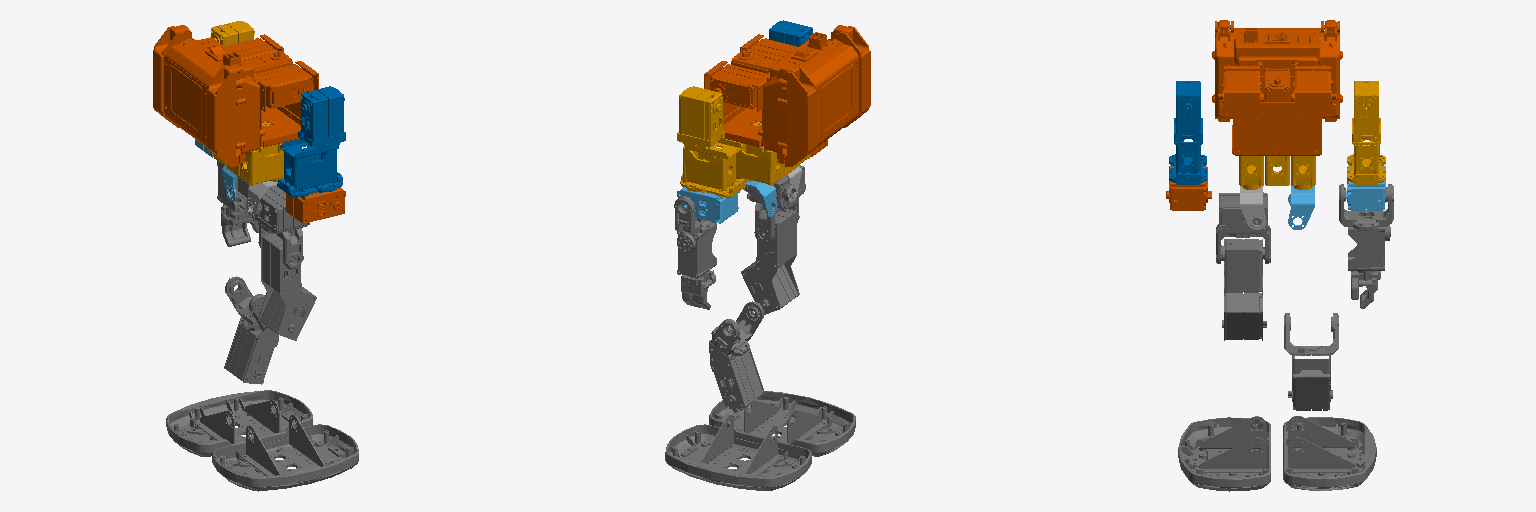
--- Render facts (derived) ---
The picture shows the robot from 3 angles, left to right: view 1: azimuth 30°, elevation 25°; view 2: azimuth 150°, elevation 25°; view 3: azimuth 270°, elevation 25°; orthographic projection.
Model khr22 with 23 links and 22 joints (21 revolute, 1 fixed), rooted at BODY, posed every joint at zero.
Visible links, largest first — view 1: TORSO_LINK0, RLEG_LINK5, LLEG_LINK5, RARM_LINK1, RLEG_LINK2, LLEG_LINK3, RLEG_LINK1, LARM_LINK3, BODY, RARM_LINK2, LARM_LINK1; view 2: TORSO_LINK0, LLEG_LINK5, RLEG_LINK5, LARM_LINK1, LLEG_LINK3, RLEG_LINK2, LARM_LINK3, BODY, RLEG_LINK1, LARM_LINK2, RARM_LINK1; view 3: TORSO_LINK0, LLEG_LINK5, RLEG_LINK5, RLEG_LINK2, LARM_LINK3, LARM_LINK1, LLEG_LINK3, RARM_LINK1, BODY, RLEG_LINK1, RARM_LINK2, LARM_LINK2 (+2 smaller).
Boxes of the visible links, x1,y1,x2,y2 form: TORSO_LINK0: [153, 25, 318, 166]; RLEG_LINK5: [212, 415, 358, 491]; LLEG_LINK5: [166, 390, 312, 456]; RARM_LINK1: [277, 86, 345, 197]; RLEG_LINK2: [258, 234, 316, 340]; LLEG_LINK3: [224, 276, 278, 384]; RLEG_LINK1: [247, 186, 309, 269]; LARM_LINK3: [217, 160, 258, 246]; BODY: [214, 122, 283, 185]; RARM_LINK2: [284, 187, 345, 223]; LARM_LINK1: [211, 21, 254, 46]; TORSO_LINK0: [704, 25, 870, 166]; LLEG_LINK5: [665, 415, 811, 490]; RLEG_LINK5: [709, 391, 855, 456]; LARM_LINK1: [677, 86, 745, 197]; LLEG_LINK3: [709, 301, 764, 409]; RLEG_LINK2: [741, 208, 799, 314]; LARM_LINK3: [674, 196, 716, 309]; BODY: [736, 122, 809, 185]; RLEG_LINK1: [745, 165, 805, 243]; LARM_LINK2: [677, 187, 739, 223]; RARM_LINK1: [769, 20, 812, 46]; TORSO_LINK0: [1212, 20, 1342, 155]; LLEG_LINK5: [1283, 416, 1376, 490]; RLEG_LINK5: [1178, 416, 1270, 491]; RLEG_LINK2: [1222, 239, 1266, 340]; LARM_LINK3: [1339, 184, 1393, 308]; LARM_LINK1: [1347, 81, 1385, 184]; LLEG_LINK3: [1284, 313, 1338, 410]; RARM_LINK1: [1169, 81, 1206, 184]; BODY: [1239, 156, 1315, 189]; RLEG_LINK1: [1216, 193, 1270, 263]; RARM_LINK2: [1166, 166, 1211, 210]; LARM_LINK2: [1346, 166, 1385, 210].
Bounding box of the posed robot: 0.1374 × 0.1897 × 0.3809 m (x, y, z).
Meshes: 23 distinct files referenced, 14 mesh visuals loaded (14 Collada DAE); not drawn: 9 (reference not matched to a file when rendering).

robot.urdf — khr22:
<?xml version="1.0"?>
<robot name="khr22"
       xmlns:xi="http://www.w3.org/2001/XInclude">
  <link name="BODY">
    <visual>
      <origin xyz="0 0 0" rpy="0 -0 0"/>
      <!-- <origin xyz="0.0013 0 0.28866" rpy="0 -0 0"/> -->
      <geometry>
        <mesh filename="khr22/mesh/BODY_mesh_refined.dae" scale="1 1 1" />
      </geometry>
    </visual>
    <collision>
      <origin xyz="0 0 0" rpy="0 -0 0"/>
      <!-- <origin xyz="0.0013 0 0.28866" rpy="0 -0 0"/> -->
      <geometry>
        <mesh filename="khr22/mesh/BODY_mesh_refined.dae" scale="1 1 1" />
      </geometry>
    </collision>
    <inertial>
      <mass value="0.12849" />
      <origin xyz="-0.0115 3.53916e-18 -0.02" rpy="0 -0 0"/>
      <inertia ixx="4.39672e-05" ixy="-5.24819e-23" ixz="-6.69555e-24" iyy="9.84623e-05" iyz="-1.72206e-20" izz="9.60387e-05"/>
    </inertial>
  </link>
  <link name="LLEG_LINK0">
    <visual>
      <origin xyz="0 -0.022 0.04" rpy="0 -0 0"/>
      <geometry>
        <mesh filename="khr22/mesh/LLEG_LINK0_mesh_refined.dae" scale="1 1 1" />
      </geometry>
    </visual>
    <collision>
      <origin xyz="0 -0.022 0.04" rpy="0 -0 0"/>
      <geometry>
        <mesh filename="khr22/mesh/LLEG_LINK0_mesh_refined.dae" scale="1 1 1" />
      </geometry>
    </collision>
    <inertial>
      <mass value="0.003322" />
      <origin xyz="-0.001629 -0.001057 -0.009271" rpy="0 -0 0"/>
      <inertia ixx="1.0684e-05" ixy="2.25136e-07" ixz="-7.55589e-09" iyy="1.17667e-05" iyz="-4.21048e-08" izz="4.59644e-06"/>
    </inertial>
  </link>
  <link name="LLEG_LINK1">
    <visual>
      <origin xyz="0.018517 0.017 -0.06265" rpy="0 -0 0"/>
      <geometry>
        <mesh filename="khr22/mesh/LLEG_LINK1_mesh_refined.dae" scale="1 1 1" />
      </geometry>
    </visual>
    <collision>
      <origin xyz="0.018517 0.017 -0.06265" rpy="0 -0 0"/>
      <geometry>
        <mesh filename="khr22/mesh/LLEG_LINK1_mesh_refined.dae" scale="1 1 1" />
      </geometry>
    </collision>
    <inertial>
      <mass value="0.0699" />
      <origin xyz="-0.021734 0.011506 -0.014091" rpy="0 -0 0"/>
      <inertia ixx="1.6919e-05" ixy="-8.67462e-08" ixz="-1.21724e-08" iyy="1.58948e-05" iyz="-5.7174e-07" izz="9.6286e-06"/>
      <!-- <mass value="0.059469" /> -->
      <!-- <origin xyz="-0.02 0.0115 -0.006481" rpy="0 -0 0"/> -->
      <!-- <inertia ixx="6.45473e-05" ixy="-4.27652e-10" ixz="4.33505e-10" iyy="7.31302e-05" iyz="2.22978e-08" izz="4.57654e-05"/> -->
    </inertial>
  </link>
  <link name="LLEG_LINK2">
    <visual>
      <origin xyz="-0.0192 -0.00825 -0.0385" rpy="0 -0 0"/>
      <geometry>
        <mesh filename="khr22/mesh/LLEG_LINK2_mesh_refined.dae" scale="1 1 1" />
      </geometry>
    </visual>
    <collision>
      <origin xyz="-0.0192 -0.00825 -0.0385" rpy="0 -0 0"/>
      <geometry>
        <mesh filename="khr22/mesh/LLEG_LINK2_mesh_refined.dae" scale="1 1 1" />
      </geometry>
    </collision>
    <inertial>
      <mass value="0.1031" />
      <origin xyz="0.002871 0.018978 -0.033258" rpy="0 -0 0"/>
      <inertia ixx="5.51675e-05" ixy="-4.33138e-07" ixz="1.60787e-07" iyy="5.51001e-05" iyz="2.79276e-08" izz="1.42107e-05"/>
      <!-- <mass value="0.08566" /> -->
      <!-- <origin xyz="0.002875 0.02 -0.03327" rpy="0 -0 0"/> -->
      <!-- <inertia ixx="6.70633e-05" ixy="2.76374e-22" ixz="-1.9933e-23" iyy="0.000102" iyz="2.47851e-20" izz="6.47926e-05"/> -->
    </inertial>
  </link>
  <link name="LLEG_LINK3">
    <visual>
      <origin xyz="0 0 -0.065" rpy="0 -0 0"/>
      <geometry>
        <mesh filename="khr22/mesh/LLEG_LINK3_mesh_refined.dae" scale="1 1 1" />
      </geometry>
    </visual>
    <collision>
      <origin xyz="0 0 -0.065" rpy="0 -0 0"/>
      <geometry>
        <mesh filename="khr22/mesh/LLEG_LINK3_mesh_refined.dae" scale="1 1 1" />
      </geometry>
    </collision>
    <inertial>
      <mass value="0.0694" />
      <origin xyz="0.003613 0.016674 -0.031461" rpy="0 -0 0"/>
      <inertia ixx="3.675e-05" ixy="-1.69837e-07" ixz="-8.70062e-07" iyy="3.37577e-05" iyz="-1.30046e-07" izz="1.29244e-05"/>
      <!-- <mass value="0.059469" /> -->
      <!-- <origin xyz="0.005048 0.02 -0.042868" rpy="0 -0 0"/> -->
      <!-- <inertia ixx="0.000211" ixy="-4.27652e-10" ixz="-4.35972e-07" iyy="0.000219" iyz="2.22978e-08" izz="4.55794e-05"/> -->
    </inertial>
  </link>
  <link name="LLEG_LINK4">
    <visual>
      <origin xyz="0 0 -0.065" rpy="0 -0 0"/>
      <geometry>
        <mesh filename="khr22/mesh/LLEG_LINK4_mesh_refined.dae" scale="1 1 1" />
      </geometry>
    </visual>
    <collision>
      <origin xyz="0 0 -0.065" rpy="0 -0 0"/>
      <geometry>
        <mesh filename="khr22/mesh/LLEG_LINK4_mesh_refined.dae" scale="1 1 1" />
      </geometry>
    </collision>
    <inertial>
      <mass value="0.0691" />
      <origin xyz="-0.000386 0.016666 -0.024369" rpy="0 -0 0"/>
      <inertia ixx="1.89725e-05" ixy="-5.30464e-08" ixz="-3.88994e-07" iyy="1.73695e-05" iyz="-1.9347e-08" izz="1.22922e-05"/>
      <!-- <mass value="0.059469" /> -->
      <!-- <origin xyz="-1.0842e-18 0.02 -0.032159" rpy="0 -0 0"/> -->
      <!-- <inertia ixx="0.000349" ixy="-4.27652e-10" ixz="4.33505e-10" iyy="0.000358" iyz="2.22978e-08" izz="4.5842e-05"/> -->
    </inertial>
  </link>
  <link name="LLEG_LINK5">
    <visual>
      <!-- <origin xyz="0.0 0.0 0.0" rpy="0 -0 0"/> -->
      <origin xyz="0.019683 0.00825 -0.0385" rpy="0 -0 0"/>
      <geometry>
        <mesh filename="khr22/mesh/LLEG_LINK5_mesh.dae" scale="1 1 1" />
      </geometry>
    </visual>
    <collision>
      <!-- <origin xyz="0.0 0.0 0.0" rpy="0 -0 0"/> -->
      <origin xyz="0.019683 0.00825 -0.0385" rpy="0 -0 0"/>
      <geometry>
        <mesh filename="khr22/mesh/LLEG_LINK5_mesh.dae" scale="1 1 1" />
      </geometry>
    </collision>
    <inertial>
      <mass value="0.0419" />
      <origin xyz="-0.020862 0.020902 -0.013459" rpy="0 -0 0"/>
      <inertia ixx="1.31439e-05" ixy="-3.43305e-09" ixz="-2.13264e-07" iyy="2.75629e-05" iyz="3.99808e-07" izz="3.78492e-05"/>
      <!-- <mass value="0.103233" /> -->
      <!-- <origin xyz="3.46945e-18 0.01093 0.00521" rpy="0 -0 0"/> -->
      <!-- <inertia ixx="0.000993" ixy="4.72528e-06" ixz="-1.08944e-06" iyy="0.000411" iyz="1.03972e-06" izz="0.000602"/> -->
    </inertial>
  </link>
  <link name="RLEG_LINK0">
    <visual>
      <origin xyz="0 0.022 0.04" rpy="0 -0 0"/>
      <geometry>
        <mesh filename="khr22/mesh/RLEG_LINK0_mesh_refined.dae" scale="1 1 1" />
      </geometry>
    </visual>
    <collision>
      <origin xyz="0 0.022 0.04" rpy="0 -0 0"/>
      <geometry>
        <mesh filename="khr22/mesh/RLEG_LINK0_mesh_refined.dae" scale="1 1 1" />
      </geometry>
    </collision>
    <inertial>
      <mass value="0.003322" />
      <origin xyz="-0.001629 0.001057 -0.009271" rpy="0 -0 0"/>
      <inertia ixx="1.0684e-05" ixy="2.25136e-07" ixz="-8.02116e-09" iyy="1.17667e-05" iyz="4.20715e-08" izz="4.59644e-06"/>
    </inertial>
  </link>
  <link name="RLEG_LINK1">
    <visual>
      <origin xyz="0.018517 -0.017 -0.06265" rpy="0 -0 0"/>
      <geometry>
        <mesh filename="khr22/mesh/RLEG_LINK1_mesh_refined.dae" scale="1 1 1" />
      </geometry>
    </visual>
    <collision>
      <origin xyz="0.018517 -0.017 -0.06265" rpy="0 -0 0"/>
      <geometry>
        <mesh filename="khr22/mesh/RLEG_LINK1_mesh_refined.dae" scale="1 1 1" />
      </geometry>
    </collision>
    <inertial>
      <mass value="0.0699" />
      <origin xyz="-0.021734 -0.011506 -0.014091" rpy="0 -0 0"/>
      <inertia ixx="1.67706e-05" ixy="3.09063e-07" ixz="-9.06368e-08" iyy="1.59351e-05" iyz="-1.85881e-07" izz="8.90141e-06"/>
      <!-- <mass value="0.059469" /> -->
      <!-- <origin xyz="-0.02 -0.0115 -0.006481" rpy="0 -0 0"/> -->
      <!-- <inertia ixx="6.45473e-05" ixy="-4.27652e-10" ixz="4.33505e-10" iyy="7.31302e-05" iyz="2.22978e-08" izz="4.57654e-05"/> -->
    </inertial>
  </link>
  <link name="RLEG_LINK2">
    <visual>
      <origin xyz="-0.0192 0.00825 -0.0385" rpy="0 -0 0"/>
      <geometry>
        <mesh filename="khr22/mesh/RLEG_LINK2_mesh_refined.dae" scale="1 1 1" />
      </geometry>
    </visual>
    <collision>
      <origin xyz="-0.0192 0.00825 -0.0385" rpy="0 -0 0"/>
      <geometry>
        <mesh filename="khr22/mesh/RLEG_LINK2_mesh_refined.dae" scale="1 1 1" />
      </geometry>
    </collision>
    <inertial>
      <mass value="0.1031" />
      <origin xyz="0.002871 -0.018978 -0.033258" rpy="0 -0 0"/>
      <inertia ixx="5.53682e-05" ixy="1.79727e-07" ixz="1.50432e-07" iyy="5.49684e-05" iyz="-1.26323e-07" izz="1.5723e-05"/>
      <!-- <mass value="0.08566" /> -->
      <!-- <origin xyz="0.002875 -0.02 -0.03327" rpy="0 -0 0"/> -->
      <!-- <inertia ixx="6.70633e-05" ixy="2.76374e-22" ixz="-1.9933e-23" iyy="0.000102" iyz="2.47851e-20" izz="6.47926e-05"/> -->
    </inertial>
  </link>
  <link name="RLEG_LINK3">
    <visual>
      <origin xyz="0 0 -0.065" rpy="0 -0 0"/>
      <geometry>
        <mesh filename="khr22/mesh/RLEG_LINK3_mesh_refined.dae" scale="1 1 1" />
      </geometry>
    </visual>
    <collision>
      <origin xyz="0 0 -0.065" rpy="0 -0 0"/>
      <geometry>
        <mesh filename="khr22/mesh/RLEG_LINK3_mesh_refined.dae" scale="1 1 1" />
      </geometry>
    </collision>
    <inertial>
      <mass value="0.0694" />
      <origin xyz="0.003613 -0.016674 -0.031461" rpy="0 -0 0"/>
      <inertia ixx="3.88163e-05" ixy="-4.03699e-09" ixz="-8.68336e-07" iyy="3.51562e-05" iyz="-8.44442e-08" izz="1.3848e-05"/>
      <!-- <mass value="0.059469" /> -->
      <!-- <origin xyz="0.005048 -0.02 -0.042868" rpy="0 -0 0"/> -->
      <!-- <inertia ixx="0.000211" ixy="-4.27652e-10" ixz="-4.35972e-07" iyy="0.000219" iyz="2.22978e-08" izz="4.55794e-05"/> -->
    </inertial>
  </link>
  <link name="RLEG_LINK4">
    <visual>
      <origin xyz="0 -0.003 -0.065" rpy="0 -0 0"/>
      <geometry>
        <mesh filename="khr22/mesh/RLEG_LINK4_mesh_refined.dae" scale="1 1 1" />
      </geometry>
    </visual>
    <collision>
      <origin xyz="0 -0.003 -0.065" rpy="0 -0 0"/>
      <geometry>
        <mesh filename="khr22/mesh/RLEG_LINK4_mesh_refined.dae" scale="1 1 1" />
      </geometry>
    </collision>
    <inertial>
      <mass value="0.0691" />
      <origin xyz="-0.000386 -0.016666 -0.024369" rpy="0 -0 0"/>
      <inertia ixx="2.07911e-05" ixy="-1.95431e-07" ixz="9.83503e-08" iyy="1.81828e-05" iyz="8.03039e-08" izz="1.18297e-05"/>
      <!-- <mass value="0.059469" /> -->
      <!-- <origin xyz="-4.33681e-19 -0.02 -0.032159" rpy="0 -0 0"/> -->
      <!-- <inertia ixx="0.000349" ixy="-4.27652e-10" ixz="4.33505e-10" iyy="0.000358" iyz="2.22978e-08" izz="4.5842e-05"/> -->
    </inertial>
  </link>
  <link name="RLEG_LINK5">
    <visual>
      <!-- <origin xyz="0.0 0.0 0.0" rpy="0 -0 0"/> -->
      <origin xyz="0.019683 -0.00825 -0.0385" rpy="0 -0 0"/>
      <geometry>
        <mesh filename="khr22/mesh/RLEG_LINK5_mesh.dae" scale="1 1 1" />
      </geometry>
    </visual>
    <collision>
      <!-- <origin xyz="0.0 0.0 0.0" rpy="0 -0 0"/> -->
      <origin xyz="0.019683 -0.00825 -0.0385" rpy="0 -0 0"/>
      <geometry>
        <mesh filename="khr22/mesh/RLEG_LINK5_mesh.dae" scale="1 1 1" />
      </geometry>
    </collision>
    <inertial>
      <mass value="0.0419" />
      <origin xyz="-0.020862 -0.020902 -0.013459" rpy="0 -0 0"/>
      <inertia ixx="1.24417e-05" ixy="-6.00499e-07" ixz="1.04282e-07" iyy="3.00021e-05" iyz="-5.79267e-07" izz="3.92743e-05"/>
      <!-- <mass value="0.103233" /> -->
      <!-- <origin xyz="-3.46945e-18 -0.01093 0.00521" rpy="0 -0 0"/> -->
      <!-- <inertia ixx="0.000993" ixy="4.72527e-06" ixz="1.01251e-06" iyy="0.000411" iyz="-1.52142e-07" izz="0.000602"/> -->
    </inertial>
  </link>
  <link name="TORSO_LINK0">
    <visual>
      <origin xyz="0 0 0" rpy="0 -0 0"/>
      <geometry>
        <mesh filename="khr22/mesh/TORSO_LINK0_mesh_refined.dae" scale="1 1 1" />
      </geometry>
    </visual>
    <collision>
      <origin xyz="0 0 0" rpy="0 -0 0"/>
      <geometry>
        <mesh filename="khr22/mesh/TORSO_LINK0_mesh_refined.dae" scale="1 1 1" />
      </geometry>
    </collision>
    <inertial>
      <mass value="0.35983" />
      <origin xyz="-0.029892 1.89568e-17 0.029281" rpy="0 -0 0"/>
      <inertia ixx="0.002007" ixy="3.87489e-05" ixz="-9.86728e-07" iyy="0.001856" iyz="-7.26528e-06" izz="0.001515"/>
    </inertial>
  </link>
  <link name="HEAD_LINK0">
    <visual>
      <origin xyz="0 0 0.0644" rpy="0 -0 0"/>
      <geometry>
        <mesh filename="khr22/mesh/HEAD_LINK0_mesh_refined.dae" scale="1 1 1" />
      </geometry>
    </visual>
    <collision>
      <origin xyz="0 0 0.0644" rpy="0 -0 0"/>
      <geometry>
        <mesh filename="khr22/mesh/HEAD_LINK0_mesh_refined.dae" scale="1 1 1" />
      </geometry>
    </collision>
    <inertial>
      <mass value="0.0149" />
      <origin xyz="0.002048 0 0.020747" rpy="0 -0 0"/>
      <inertia ixx="1.89498e-06" ixy="1.75751e-08" ixz="-5.79694e-08" iyy="3.27018e-06" iyz="1.69379e-08" izz="2.44034e-06"/>
      <!-- <mass value="0.014361" /> -->
      <!-- <origin xyz="0.003285 -2.30629e-06 0.020555" rpy="0 -0 0"/> -->
      <!-- <inertia ixx="4.95528e-05" ixy="-1.38168e-11" ixz="-7.3432e-08" iyy="4.45537e-05" iyz="-2.01845e-09" izz="1.47912e-05"/> -->
    </inertial>
  </link>
  <link name="LARM_LINK0">
    <visual>
      <origin xyz="0.0115 0.049 0.0474" rpy="0 -0 0"/>
      <geometry>
        <mesh filename="khr22/mesh/LARM_LINK0_mesh_refined.dae" scale="1 1 1" />
      </geometry>
    </visual>
    <collision>
      <origin xyz="0.0115 0.049 0.0474" rpy="0 -0 0"/>
      <geometry>
        <mesh filename="khr22/mesh/LARM_LINK0_mesh_refined.dae" scale="1 1 1" />
      </geometry>
    </collision>
    <inertial>
      <mass value="0.0153" />
      <origin xyz="0 0.014576 0" rpy="0 -0 0"/>
      <inertia ixx="1.64238e-06" ixy="-4.39899e-09" ixz="2.13134e-08" iyy="2.26922e-06" iyz="-3.47822e-09" izz="2.75336e-06"/>
      <!-- <mass value="0.016639" /> -->
      <!-- <origin xyz="-3.46945e-18 0.009163 0" rpy="0 -0 0"/> -->
      <!-- <inertia ixx="3.04092e-05" ixy="-4.27652e-10" ixz="4.33505e-10" iyy="2.27027e-05" iyz="2.22978e-08" izz="2.23763e-05"/> -->
    </inertial>
  </link>
  <link name="LARM_LINK1">
    <visual>
      <origin xyz="0.01975 0.0255 0" rpy="0 -0 0"/>
      <geometry>
        <mesh filename="khr22/mesh/LARM_LINK1_mesh_refined.dae" scale="1 1 1" />
      </geometry>
    </visual>
    <collision>
      <origin xyz="0.01975 0.0255 0" rpy="0 -0 0"/>
      <geometry>
        <mesh filename="khr22/mesh/LARM_LINK1_mesh_refined.dae" scale="1 1 1" />
      </geometry>
    </collision>
    <inertial>
      <mass value="0.08566" />
      <origin xyz="-0.02425 0 -0.03275" rpy="0 -0 0"/>
      <inertia ixx="4.0299e-05" ixy="-8.32865e-25" ixz="-3.89972e-23" iyy="6.60435e-05" iyz="9.2227e-21" izz="7.43506e-05"/>
    </inertial>
  </link>
  <link name="LARM_LINK2">
    <visual>
      <origin xyz="0.04025 0.0255 0.075" rpy="0 -0 0"/>
      <!-- <origin xyz="-0.016 0 -0.075" rpy="0 -0 0"/> -->
      <geometry>
        <mesh filename="khr22/mesh/LARM_LINK2_mesh_refined.dae" scale="1 1 1" />
      </geometry>
    </visual>
    <collision>
      <origin xyz="0.04025 0.0255 0.075" rpy="0 -0 0"/>
      <!-- <origin xyz="-0.016 0 -0.075" rpy="0 -0 0"/> -->
      <geometry>
        <mesh filename="khr22/mesh/LARM_LINK2_mesh_refined.dae" scale="1 1 1" />
      </geometry>
    </collision>
    <inertial>
      <mass value="0.04283" />
      <origin xyz="0.0115 0 1.04083e-17" rpy="0 -0 0"/>
      <inertia ixx="2.11725e-05" ixy="4.25575e-26" ixz="-1.88949e-23" iyy="3.40543e-05" iyz="1.04267e-20" izz="3.71848e-05"/>
    </inertial>
  </link>
  <link name="LARM_LINK3">
    <visual>
      <origin xyz="-0.0153 -0.0197 -0.0875" rpy="0 -0 0"/>
      <geometry>
        <mesh filename="khr22/mesh/LARM_LINK3_mesh_refined.dae" scale="1 1 1" />
      </geometry>
    </visual>
    <collision>
      <origin xyz="-0.0153 -0.0197 -0.0875" rpy="0 -0 0"/>
      <geometry>
        <mesh filename="khr22/mesh/LARM_LINK3_mesh_refined.dae" scale="1 1 1" />
      </geometry>
    </collision>
    <inertial>
      <mass value="0.0315" />
      <origin xyz="0.000525 0.019115 -0.039067" rpy="0 -0 0"/>
      <inertia ixx="2.0635e-05" ixy="6.63534e-08" ixz="1.858e-07" iyy="1.94974e-05" iyz="-1.80473e-07" izz="3.50615e-06"/>
      <!-- <mass value="0.07626" /> -->
      <!-- <origin xyz="0.020363 0.074486 -0.077361" rpy="0 -0 0"/> -->
      <!-- <inertia ixx="0.000144" ixy="4.76604e-08" ixz="1.40919e-07" iyy="0.000121" iyz="-4.90624e-08" izz="9.78235e-05"/> -->
    </inertial>
  </link>
  <link name="RARM_LINK0">
    <visual>
      <origin xyz="0.0115 -0.049 0.0474" rpy="0 -0 0"/>
      <geometry>
        <mesh filename="khr22/mesh/RARM_LINK0_mesh_refined.dae" scale="1 1 1" />
      </geometry>
    </visual>
    <collision>
      <origin xyz="0.0115 -0.049 0.0474" rpy="0 -0 0"/>
      <geometry>
        <mesh filename="khr22/mesh/RARM_LINK0_mesh_refined.dae" scale="1 1 1" />
      </geometry>
    </collision>
    <inertial>
      <mass value="0.0153" />
      <origin xyz="0 -0.014576 0" rpy="0 -0 0"/>
      <inertia ixx="1.6763e-06" ixy="-1.67661e-08" ixz="-9.95332e-09" iyy="2.26307e-06" iyz="1.99264e-09" izz="2.74554e-06"/>
      <!-- <mass value="0.016639" /> -->
      <!-- <origin xyz="0 -0.009163 0" rpy="0 -0 0"/> -->
      <!-- <inertia ixx="3.04092e-05" ixy="-4.27652e-10" ixz="4.33505e-10" iyy="2.27027e-05" iyz="2.22978e-08" izz="2.23763e-05"/> -->
    </inertial>
  </link>
  <link name="RARM_LINK1">
    <visual>
      <origin xyz="0.01975 -0.0255 0" rpy="0 -0 0"/>
      <geometry>
        <mesh filename="khr22/mesh/RARM_LINK1_mesh_refined.dae" scale="1 1 1" />
      </geometry>
    </visual>
    <collision>
      <origin xyz="0.01975 -0.0255 0" rpy="0 -0 0"/>
      <geometry>
        <mesh filename="khr22/mesh/RARM_LINK1_mesh_refined.dae" scale="1 1 1" />
      </geometry>
    </collision>
    <inertial>
      <mass value="0.08566" />
      <origin xyz="-0.02425 0 -0.03275" rpy="0 -0 0"/>
      <inertia ixx="4.0299e-05" ixy="-8.32865e-25" ixz="-3.89972e-23" iyy="6.60435e-05" iyz="9.2227e-21" izz="7.43506e-05"/>
    </inertial>
  </link>
  <link name="RARM_LINK2">
    <visual>
      <origin xyz="0.04025 -0.0255 0.075" rpy="0 -0 0"/>
      <!-- <origin xyz="-0.016 0 -0.075" rpy="0 -0 0"/> -->
      <geometry>
        <mesh filename="khr22/mesh/RARM_LINK2_mesh_refined.dae" scale="1 1 1" />
      </geometry>
    </visual>
    <collision>
      <origin xyz="0.04025 -0.0255 0.075" rpy="0 -0 0"/>
      <!-- <origin xyz="-0.016 0 -0.075" rpy="0 -0 0"/> -->
      <geometry>
        <mesh filename="khr22/mesh/RARM_LINK2_mesh_refined.dae" scale="1 1 1" />
      </geometry>
    </collision>
    <inertial>
      <mass value="0.04283" />
      <origin xyz="0.0115 0 1.04083e-17" rpy="0 -0 0"/>
      <inertia ixx="2.11725e-05" ixy="4.25575e-26" ixz="-1.88949e-23" iyy="3.40543e-05" iyz="1.04267e-20" izz="3.71848e-05"/>
    </inertial>
  </link>
  <link name="RARM_LINK3">
    <visual>
      <origin xyz="-0.0153 0.0197 -0.0875" rpy="0 -0 0"/>
      <geometry>
        <mesh filename="khr22/mesh/RARM_LINK3_mesh_refined.dae" scale="1 1 1" />
      </geometry>
    </visual>
    <collision>
      <origin xyz="-0.0153 0.0197 -0.0875" rpy="0 -0 0"/>
      <geometry>
        <mesh filename="khr22/mesh/RARM_LINK3_mesh_refined.dae" scale="1 1 1" />
      </geometry>
    </collision>
    <inertial>
      <mass value="0.0315" />
      <origin xyz="0.000525 -0.019115 -0.039067" rpy="0 -0 0"/>
      <inertia ixx="2.01586e-05" ixy="-1.18985e-07" ixz="7.55844e-08" iyy="1.8365e-05" iyz="5.07189e-07" izz="4.02757e-06"/>
      <!-- <mass value="0.07626" /> -->
      <!-- <origin xyz="0.020363 -0.074486 -0.077361" rpy="0 -0 0"/> -->
      <!-- <inertia ixx="0.000144" ixy="4.76604e-08" ixz="1.7102e-07" iyy="0.000121" iyz="8.96584e-08" izz="9.78235e-05"/> -->
    </inertial>
  </link>
  <joint name="LLEG_JOINT0" type="revolute">
    <parent link="BODY"/>
    <child  link="LLEG_LINK0"/>
    <origin xyz="0 0.022 -0.04" rpy="0 -0 0 "/>
    <axis   xyz="0 0 1"/>
    <limit lower="-0.7854" upper="1.5708" effort="2.5" velocity="10.0" />
    <dynamics damping="0.2" friction="0" />
  </joint>
  <joint name="LLEG_JOINT1" type="revolute">
    <parent link="LLEG_LINK0"/>
    <child  link="LLEG_LINK1"/>
    <origin xyz="0.02 -0.005 -0.0235" rpy="0 -0 0 "/>
    <axis   xyz="1 0 0"/>
    <limit lower="-0.2618" upper="0.5236" effort="2.5" velocity="10.0" />
    <dynamics damping="0.2" friction="0" />
  </joint>
  <joint name="LLEG_JOINT2" type="revolute">
    <parent link="LLEG_LINK1"/>
    <child  link="LLEG_LINK2"/>
    <origin xyz="-0.021 -0.00825 -0.0385" rpy="0 -0 0 "/>
    <axis   xyz="0 1 0"/>
    <limit lower="-1.5708" upper="1.5708" effort="2.5" velocity="10.0" />
    <dynamics damping="0.2" friction="0" />
  </joint>
  <joint name="LLEG_JOINT3" type="revolute">
    <parent link="LLEG_LINK2"/>
    <child  link="LLEG_LINK3"/>
    <origin xyz="0 0 -0.065" rpy="0 -0 0 "/>
    <axis   xyz="0 1 0"/>
    <limit lower="0.0" upper="2.6180" effort="2.5" velocity="10.0" />
    <dynamics damping="0.2" friction="0" />
  </joint>
  <joint name="LLEG_JOINT4" type="revolute">
    <parent link="LLEG_LINK3"/>
    <child  link="LLEG_LINK4"/>
    <origin xyz="0 0 -0.065" rpy="0 -0 0 "/>
    <axis   xyz="0 1 0"/>
    <limit lower="-1.8326" upper="2.3561" effort="2.5" velocity="10.0" />
    <dynamics damping="0.2" friction="0" />
  </joint>
  <joint name="LLEG_JOINT5" type="revolute">
    <parent link="LLEG_LINK4"/>
    <child  link="LLEG_LINK5"/>
    <origin xyz="0.0197 0.00825 -0.0385" rpy="0 -0 0 "/>
    <axis   xyz="1 0 0"/>
    <limit lower="-0.5236" upper="0.0" effort="2.5" velocity="10.0" />
    <dynamics damping="0.2" friction="0" />
  </joint>
  <joint name="RLEG_JOINT0" type="revolute">
    <parent link="BODY"/>
    <child  link="RLEG_LINK0"/>
    <origin xyz="0 -0.022 -0.04" rpy="0 -0 0 "/>
    <axis   xyz="0 0 1"/>
    <limit lower="-1.5708" upper="0.7854" effort="2.5" velocity="10.0" />
    <dynamics damping="0.2" friction="0" />
  </joint>
  <joint name="RLEG_JOINT1" type="revolute">
    <parent link="RLEG_LINK0"/>
    <child  link="RLEG_LINK1"/>
    <origin xyz="0.02 0.005 -0.0235" rpy="0 -0 0 "/>
    <axis   xyz="1 0 0"/>
    <limit lower="-0.5236" upper="0.2618" effort="2.5" velocity="10.0" />
    <dynamics damping="0.2" friction="0" />
  </joint>
  <joint name="RLEG_JOINT2" type="revolute">
    <parent link="RLEG_LINK1"/>
    <child  link="RLEG_LINK2"/>
    <origin xyz="-0.021 0.00825 -0.0385" rpy="0 -0 0 "/>
    <axis   xyz="0 1 0"/>
    <limit lower="-1.5708" upper="1.5708" effort="2.5" velocity="10.0" />
    <dynamics damping="0.2" friction="0" />
  </joint>
  <joint name="RLEG_JOINT3" type="revolute">
    <parent link="RLEG_LINK2"/>
    <child  link="RLEG_LINK3"/>
    <origin xyz="0 0 -0.065" rpy="0 -0 0 "/>
    <axis   xyz="0 1 0"/>
    <limit lower="0.0" upper="2.6108" effort="2.5" velocity="10.0" />
    <dynamics damping="0.2" friction="0" />
  </joint>
  <joint name="RLEG_JOINT4" type="revolute">
    <parent link="RLEG_LINK3"/>
    <child  link="RLEG_LINK4"/>
    <origin xyz="0 0 -0.065" rpy="0 -0 0 "/>
    <axis   xyz="0 1 0"/>
    <limit lower="-1.8326" upper="2.3561" effort="2.5" velocity="10.0" />
    <dynamics damping="0.2" friction="0" />
  </joint>
  <joint name="RLEG_JOINT5" type="revolute">
    <parent link="RLEG_LINK4"/>
    <child  link="RLEG_LINK5"/>
    <origin xyz="0.0197 -0.00825 -0.0385" rpy="0 -0 0 "/>
    <axis   xyz="1 0 0"/>
    <limit lower="0.0" upper="0.5236" effort="2.5" velocity="10.0" />
    <dynamics damping="0.2" friction="0" />
  </joint>
  <joint name="TORSO_JOINT0" type="revolute">
    <parent link="BODY"/>
    <child  link="TORSO_LINK0"/>
    <origin xyz="0 0 0" rpy="0 -0 0 "/>
    <axis   xyz="0 0 1"/>
    <limit lower="-1.5708" upper="1.5708" effort="2.5" velocity="10.0" />
    <dynamics damping="0.2" friction="0" />
  </joint>
  <joint name="HEAD_JOINT0" type="fixed">
    <parent link="TORSO_LINK0"/>
    <child  link="HEAD_LINK0"/>
    <origin xyz="0.0115 0 0.064" rpy="0 -0 0 "/>
    <axis   xyz="0 0 1"/>
    <limit lower="-2.3562" upper="2.3562" effort="2.5" velocity="10.0" />
    <dynamics damping="0.2" friction="0" />
  </joint>
  <joint name="LARM_JOINT0" type="revolute">
    <parent link="TORSO_LINK0"/>
    <child  link="LARM_LINK0"/>
    <origin xyz="0.0115 0.049 0.0474" rpy="0 -0 0 "/>
    <axis   xyz="0 1 0"/>
    <limit lower="-3.1416" upper="0.7854" effort="2.5" velocity="10.0" />
    <dynamics damping="0.2" friction="0" />
  </joint>
  <joint name="LARM_JOINT1" type="revolute">
    <parent link="LARM_LINK0"/>
    <child  link="LARM_LINK1"/>
    <origin xyz="0.01975 0.0255 0" rpy="0 -0 0 "/>
    <axis   xyz="1 0 0"/>
    <limit lower="-0.5236" upper="3.1416" effort="2.5" velocity="10.0" />
    <dynamics damping="0.2" friction="0" />
  </joint>
  <joint name="LARM_JOINT2" type="revolute">
    <parent link="LARM_LINK1"/>
    <child  link="LARM_LINK2"/>
    <origin xyz="-0.0205 0 -0.075" rpy="0 -0 0 "/>
    <!-- <origin xyz="-0.016 0 -0.075" rpy="0 -0 0 "/> -->
    <axis   xyz="0 0 1"/>
    <limit lower="-2.3562" upper="2.3562" effort="2.5" velocity="10.0" />
    <dynamics damping="0.2" friction="0" />
  </joint>
  <joint name="LARM_JOINT3" type="revolute">
    <parent link="LARM_LINK2"/>
    <child  link="LARM_LINK3"/>
    <origin xyz="0.005 -0.02 -0.0125" rpy="0 -0 0 "/>
    <!-- <origin xyz="0.005 -0.02 -0.0135" rpy="0 -0 0 "/> -->
    <axis   xyz="0 1 0"/>
    <limit lower="-2.0944" upper="0.0" effort="2.5" velocity="10.0" />
    <dynamics damping="0.2" friction="0" />
  </joint>
  <joint name="RARM_JOINT0" type="revolute">
    <parent link="TORSO_LINK0"/>
    <child  link="RARM_LINK0"/>
    <origin xyz="0.0115 -0.049 0.0474" rpy="0 -0 0 "/>
    <axis   xyz="0 1 0"/>
    <limit lower="-3.1416" upper="0.7854" effort="2.5" velocity="10.0" />
    <dynamics damping="0.2" friction="0" />
  </joint>
  <joint name="RARM_JOINT1" type="revolute">
    <parent link="RARM_LINK0"/>
    <child  link="RARM_LINK1"/>
    <origin xyz="0.01975 -0.0255 0" rpy="0 -0 0 "/>
    <axis   xyz="1 0 0"/>
    <limit lower="-3.1416" upper="0.5236" effort="2.5" velocity="10.0" />
    <dynamics damping="0.2" friction="0" />
  </joint>
  <joint name="RARM_JOINT2" type="revolute">
    <parent link="RARM_LINK1"/>
    <child  link="RARM_LINK2"/>
    <origin xyz="-0.0205 0 -0.075" rpy="0 -0 0 "/>
    <!-- <origin xyz="-0.016 0 -0.075" rpy="0 -0 0 "/> -->
    <axis   xyz="0 0 1"/>
    <limit lower="-2.3562" upper="2.3562" effort="2.5" velocity="10.0" />
    <dynamics damping="0.2" friction="0" />
  </joint>
  <joint name="RARM_JOINT3" type="revolute">
    <parent link="RARM_LINK2"/>
    <child  link="RARM_LINK3"/>
    <origin xyz="0.005 0.02 -0.0125" rpy="0 -0 0 "/>
    <!-- <origin xyz="0.005 0.02 -0.0135" rpy="0 -0 0 "/> -->
    <axis   xyz="0 1 0"/>
    <limit lower="-2.0944" upper="0.0" effort="2.5" velocity="10.0" />
    <dynamics damping="0.2" friction="0" />
  </joint>
</robot>
